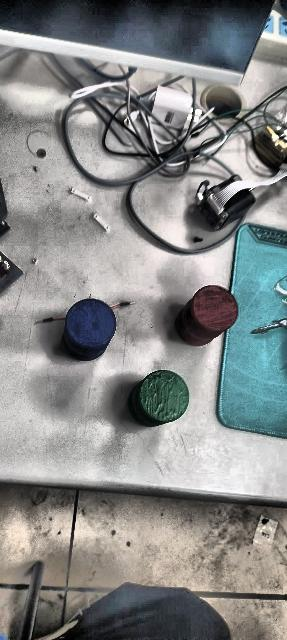blue: (63, 298, 117, 360)
green: (128, 369, 190, 427)
red: (175, 285, 238, 347)
